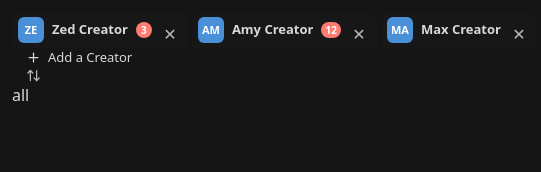
Test: CreatorTabs › right-click offers "Open in a new window", which opens the Creator window URL for that Creator as a separate window
The width and height of the screenshot is (541, 172).
Expected: the button "Open in a new window" is not shown
Right-click the tab named "Amy Creator 12 unread" at point(269, 30), box [198, 12, 341, 48]
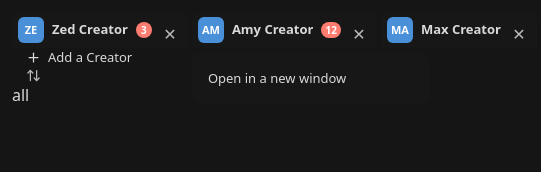
Click the button "Open in a new window" at point(311, 78), box [198, 58, 424, 99]
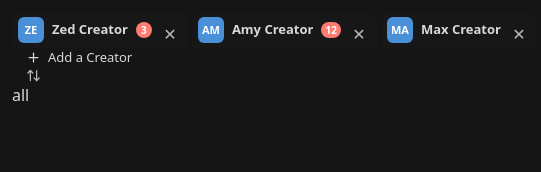
Expected: the text named "Scope" reads "all", [12, 84, 29, 106]
Expected: the button "Open in a new window" is gone
